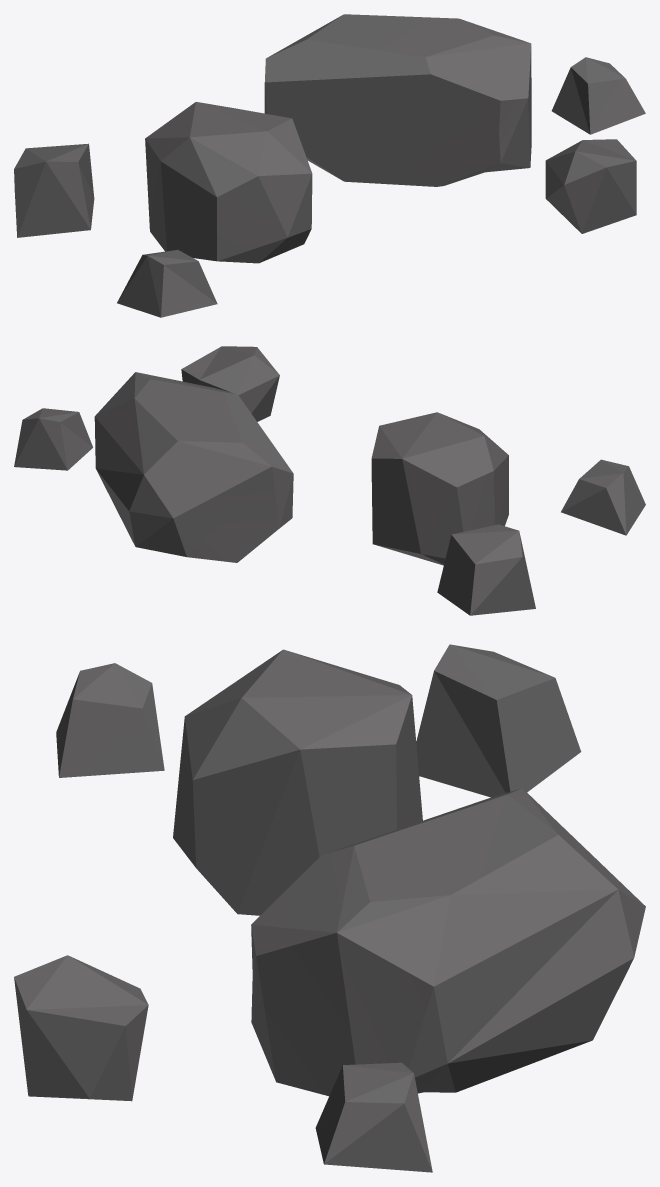
Rendered from SM_Env_Rubble_Pebbles_02.obj.
The picture shows the model from 3 angles, top to bottom: view 1: azimuth 30°, elevation 25°; view 2: azimuth 150°, elevation 25°; view 3: azimuth 270°, elevation 25°; orthographic projection. The views are drawn at different scales.
Parts seen in each view (by area): view 1: SM_Env_Rubble_Pebbles_02_0; view 2: SM_Env_Rubble_Pebbles_02_0; view 3: SM_Env_Rubble_Pebbles_02_0.
Boxes of the visible parts, box(x1,y1,x2,y2) form: SM_Env_Rubble_Pebbles_02_0: box(14, 14, 645, 317); SM_Env_Rubble_Pebbles_02_0: box(14, 346, 645, 615); SM_Env_Rubble_Pebbles_02_0: box(14, 644, 645, 1172).
Bounding box in the file's own units: 1.09 × 0.2478 × 0.6512.
Materials: 1 (1 with a texture image).
